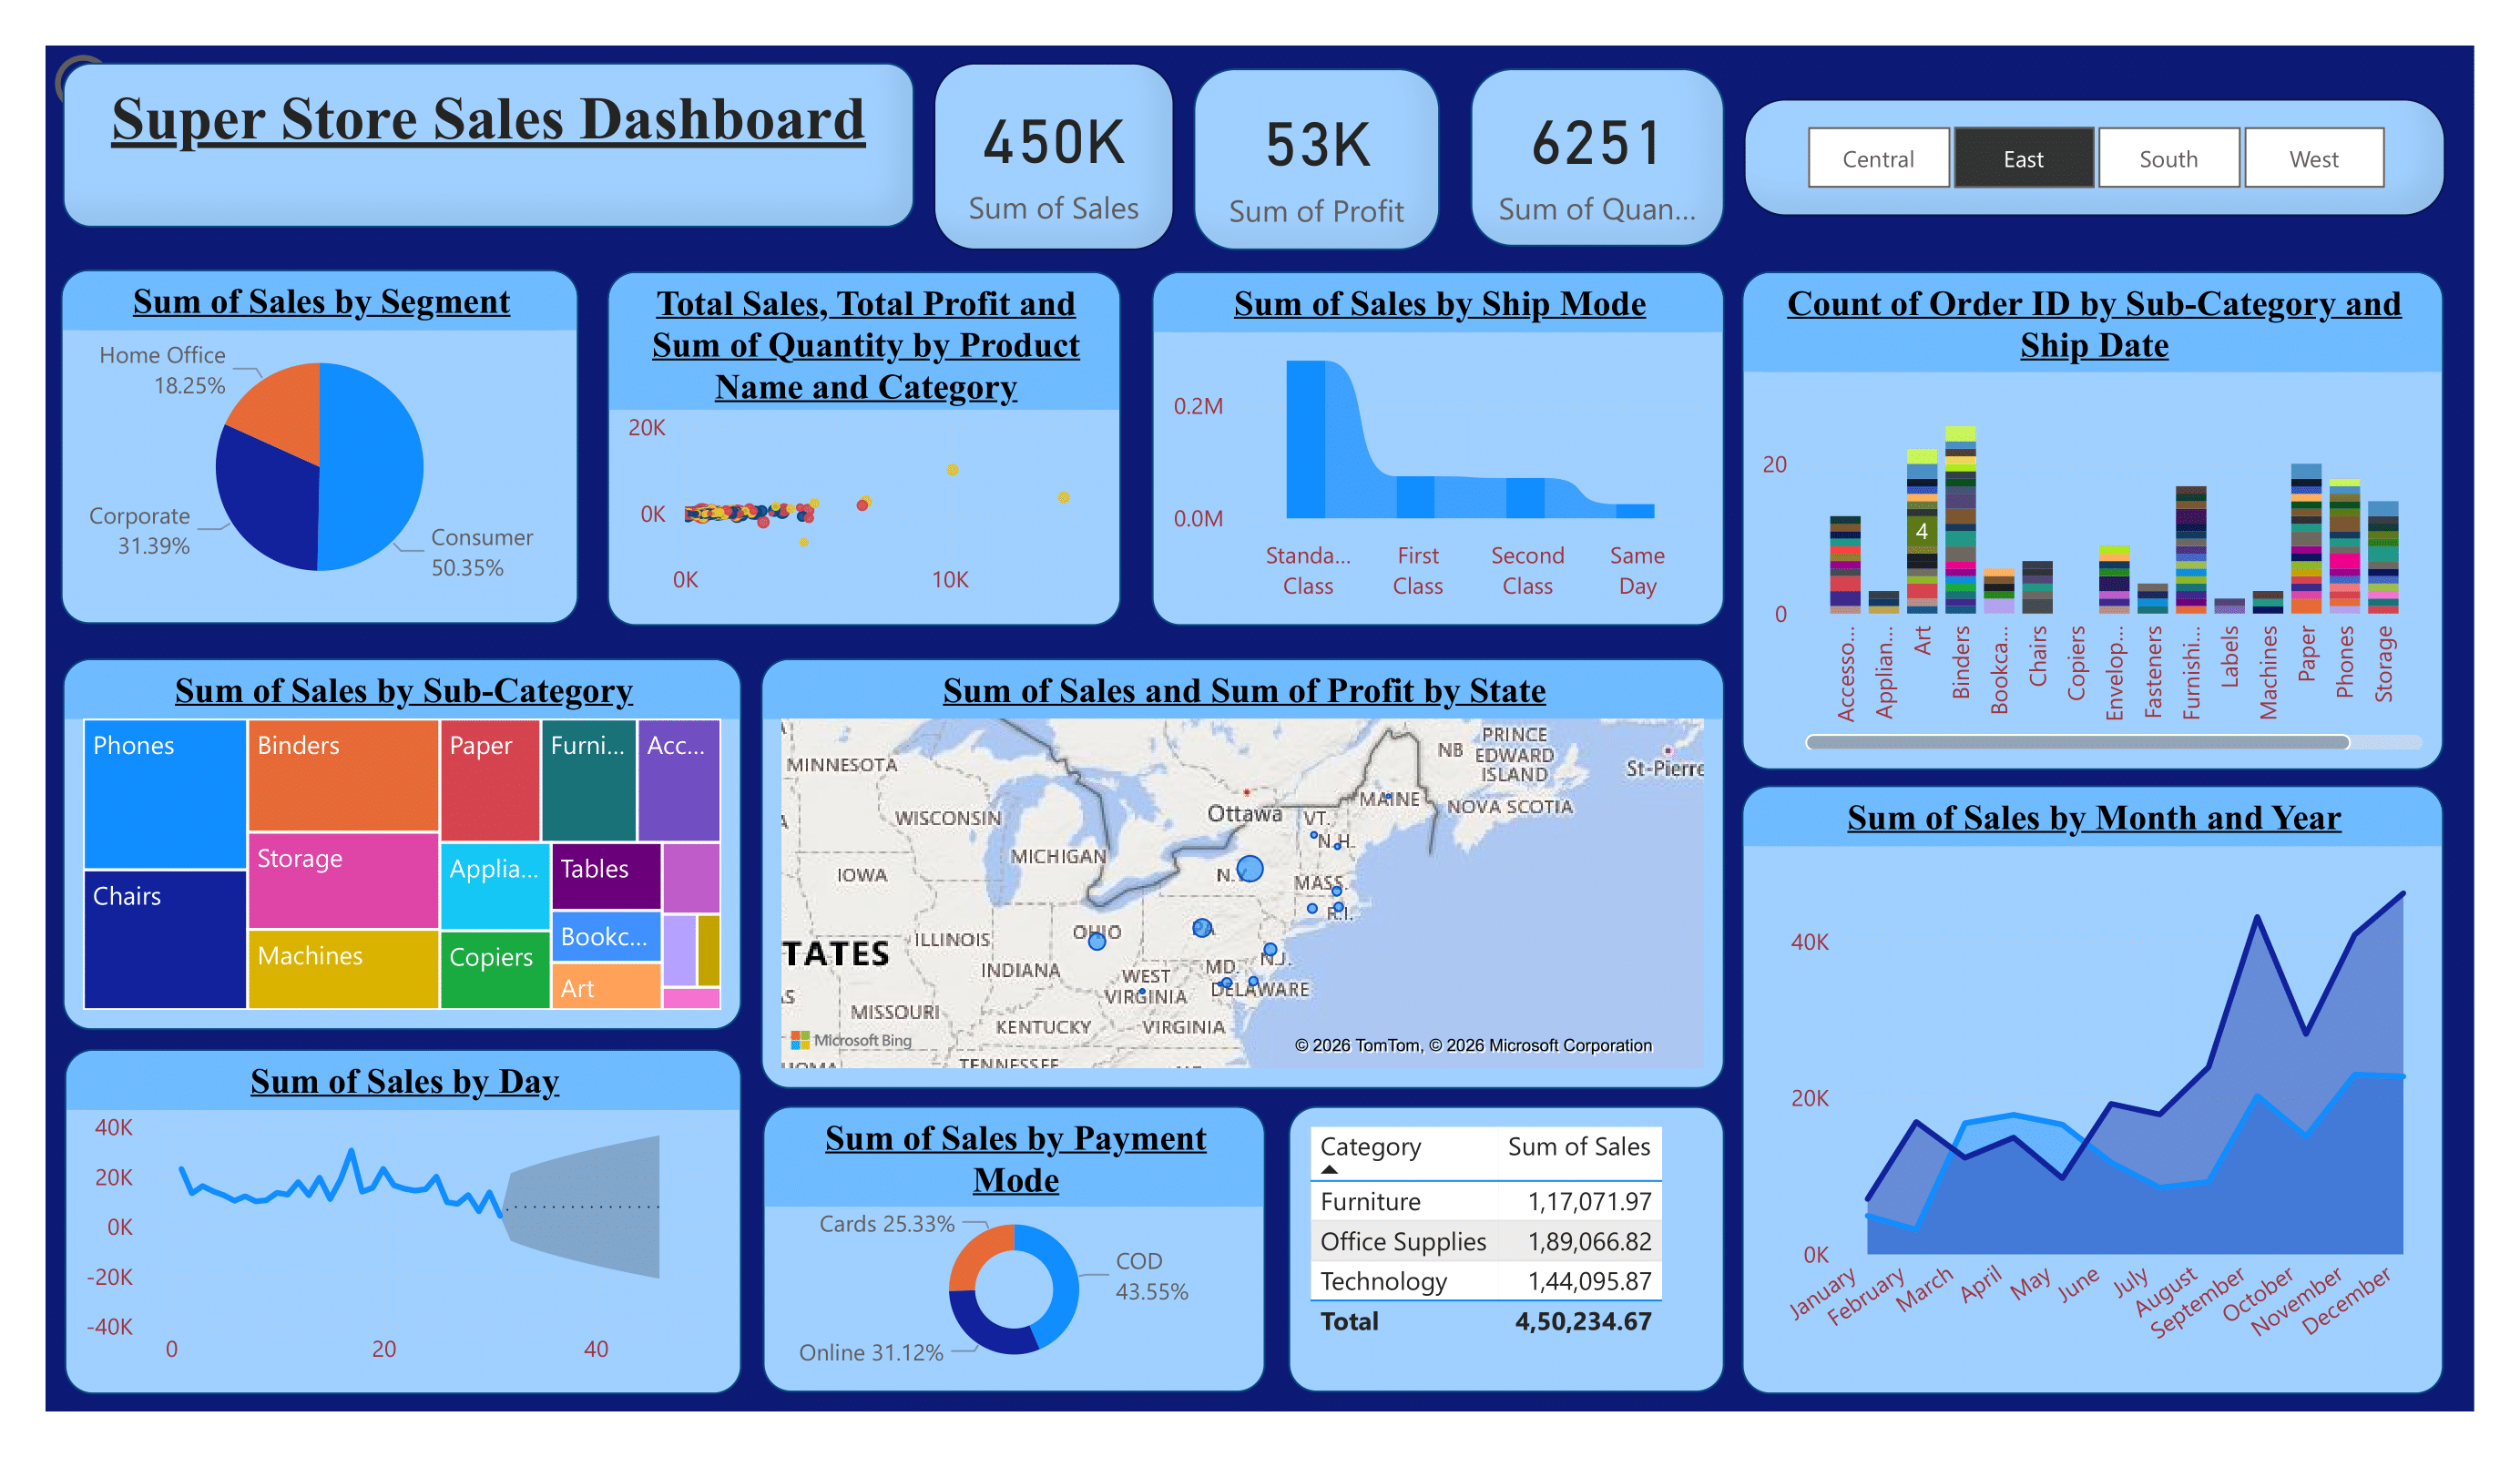

The page's visual inventory and layout, read from the dashboard file:
{"tool":"powerbi","page":{"name":"Page 1","canvas":[1280,720],"ordinal":0},"visuals":[{"type":"tableEx","fields":{"Values":["SuperStore_Sales_Dataset.Category","Sum(SuperStore_Sales_Dataset.Sales)"]},"box":[655.2,559.4,229.8,150.5],"z":0},{"type":"treemap","fields":{"Group":["SuperStore_Sales_Dataset.Sub-Category","SuperStore_Sales_Dataset.Category"],"Values":["Sum(SuperStore_Sales_Dataset.Sales)"]},"box":[9,323.1,357.7,196.2],"z":1000},{"type":"areaChart","fields":{"Category":["SuperStore_Sales_Dataset.Order Date.Variation.Date Hierarchy.Month","SuperStore_Sales_Dataset.Order Date.Variation.Date Hierarchy.Day"],"Y":["Sum(SuperStore_Sales_Dataset.Sales)"],"Series":["SuperStore_Sales_Dataset.Order Date.Variation.Date Hierarchy.Year"]},"box":[894,389.7,370.4,320.9],"z":2000},{"type":"map","fields":{"Category":["SuperStore_Sales_Dataset.State"],"Size":["Sum(SuperStore_Sales_Dataset.Sales)"]},"box":[376.9,323.1,507.7,226.9],"z":3000},{"type":"actionButton","box":[0,0,100,40],"z":4000},{"type":"donutChart","fields":{"Y":["Sum(SuperStore_Sales_Dataset.Sales)"],"Category":["SuperStore_Sales_Dataset.Payment Mode","SuperStore_Sales_Dataset.Segment"]},"box":[377.5,559.4,265.4,150.5],"z":5000},{"type":"slicer","fields":{"Values":["SuperStore_Sales_Dataset.Region"]},"box":[894.9,28.2,370.5,61.5],"z":6000},{"type":"textbox","box":[9,9,448.7,87.2],"z":7000},{"type":"card","fields":{"Values":["Sum(SuperStore_Sales_Dataset.Sales)"]},"box":[467.9,9,126.9,98.7],"z":8000},{"type":"card","fields":{"Values":["Sum(SuperStore_Sales_Dataset.Quantity)"]},"box":[751.3,11.5,133.3,94.9],"z":9000},{"type":"card","fields":{"Values":["Sum(SuperStore_Sales_Dataset.Profit)"]},"box":[605.1,11.5,129.5,96.2],"z":10000},{"type":"lineChart","fields":{"Category":["SuperStore_Sales_Dataset.Order Date.Variation.Date Hierarchy.Day"],"Y":["Sum(SuperStore_Sales_Dataset.Sales)"]},"box":[9.6,529.3,357,181.9],"z":11000},{"type":"columnChart","fields":{"Category":["SuperStore_Sales_Dataset.Sub-Category"],"Y":["CountNonNull(SuperStore_Sales_Dataset.Order ID)"],"Series":["SuperStore_Sales_Dataset.Ship Date"]},"box":[893.6,119.2,370.5,262.8],"z":12000},{"type":"ribbonChart","fields":{"Category":["SuperStore_Sales_Dataset.Ship Mode"],"Y":["Sum(SuperStore_Sales_Dataset.Sales)"]},"box":[583.3,119.2,301.3,187.2],"z":13000},{"type":"scatterChart","fields":{"Category":["SuperStore_Sales_Dataset.Product Name","SuperStore_Sales_Dataset.Order Date.Variation.Date Hierarchy.Month"],"X":["SuperStore_Sales_Dataset.Total Sales"],"Y":["SuperStore_Sales_Dataset.Total Profit"],"Size":["Sum(SuperStore_Sales_Dataset.Quantity)"],"Series":["SuperStore_Sales_Dataset.Category"]},"box":[296.2,119.2,270.5,187.2],"z":14000},{"type":"pieChart","fields":{"Y":["Sum(SuperStore_Sales_Dataset.Sales)"],"Category":["SuperStore_Sales_Dataset.Segment"]},"box":[8.4,118.2,272.7,187],"z":15000}]}

Visuals, with their boxes on the page's 1280x720 design canvas (x1, y1, x2, y2). These are canvas units, not pixel positions in the 2520x1457 screenshot, which may show the page scaled, cropped or inside an application window:
tableEx - SuperStore_Sales_Dataset.Category x Sum(SuperStore_Sales_Dataset.Sales): x1=655, y1=559, x2=885, y2=710
treemap - SuperStore_Sales_Dataset.Sub-Category x SuperStore_Sales_Dataset.Category: x1=9, y1=323, x2=367, y2=519
areaChart - SuperStore_Sales_Dataset.Order Date.Variation.Date Hierarchy.Month x SuperStore_Sales_Dataset.Order Date.Variation.Date Hierarchy.Day: x1=894, y1=390, x2=1264, y2=711
map - SuperStore_Sales_Dataset.State x Sum(SuperStore_Sales_Dataset.Sales): x1=377, y1=323, x2=885, y2=550
actionButton: x1=0, y1=0, x2=100, y2=40
donutChart - Sum(SuperStore_Sales_Dataset.Sales) x SuperStore_Sales_Dataset.Payment Mode: x1=378, y1=559, x2=643, y2=710
slicer - SuperStore_Sales_Dataset.Region: x1=895, y1=28, x2=1265, y2=90
textbox: x1=9, y1=9, x2=458, y2=96
card - Sum(SuperStore_Sales_Dataset.Sales): x1=468, y1=9, x2=595, y2=108
card - Sum(SuperStore_Sales_Dataset.Quantity): x1=751, y1=12, x2=885, y2=106
card - Sum(SuperStore_Sales_Dataset.Profit): x1=605, y1=12, x2=735, y2=108
lineChart - SuperStore_Sales_Dataset.Order Date.Variation.Date Hierarchy.Day x Sum(SuperStore_Sales_Dataset.Sales): x1=10, y1=529, x2=367, y2=711
columnChart - SuperStore_Sales_Dataset.Sub-Category x CountNonNull(SuperStore_Sales_Dataset.Order ID): x1=894, y1=119, x2=1264, y2=382
ribbonChart - SuperStore_Sales_Dataset.Ship Mode x Sum(SuperStore_Sales_Dataset.Sales): x1=583, y1=119, x2=885, y2=306
scatterChart - SuperStore_Sales_Dataset.Product Name x SuperStore_Sales_Dataset.Order Date.Variation.Date Hierarchy.Month: x1=296, y1=119, x2=567, y2=306
pieChart - Sum(SuperStore_Sales_Dataset.Sales) x SuperStore_Sales_Dataset.Segment: x1=8, y1=118, x2=281, y2=305
